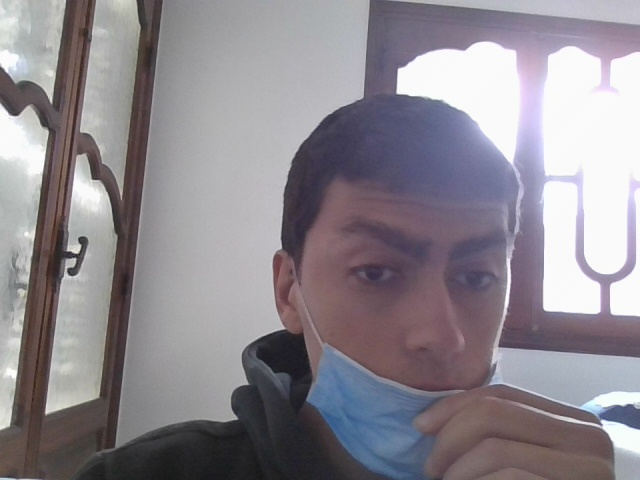mask_weared_incorrect: (301, 156, 509, 479)
